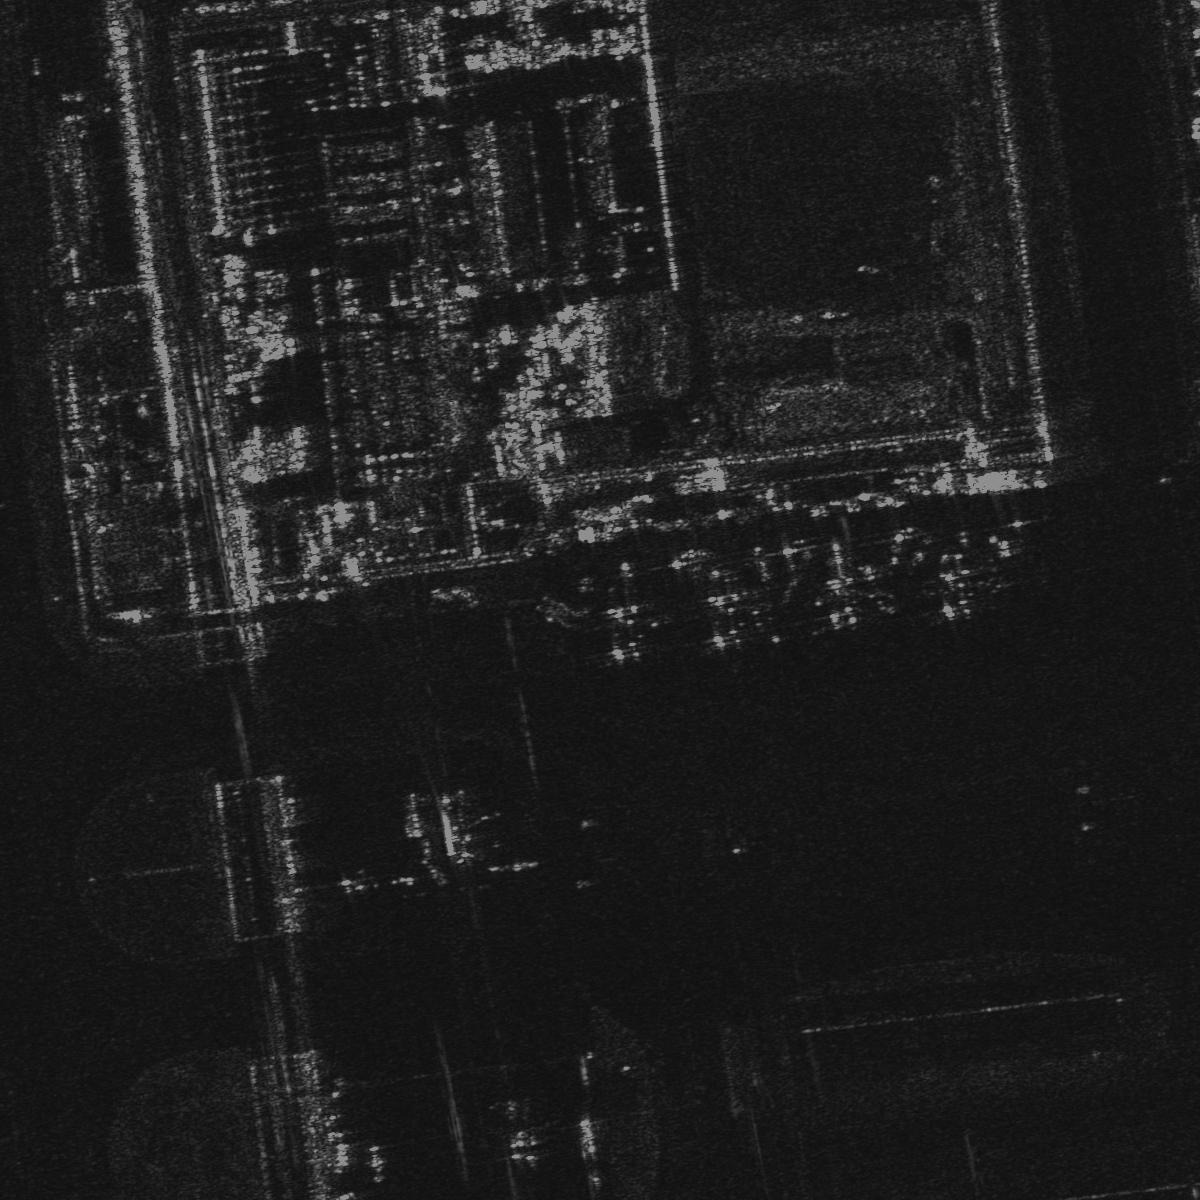Boeing787: (582, 560, 675, 664), (700, 562, 767, 647), (818, 543, 879, 629), (927, 538, 990, 621)
